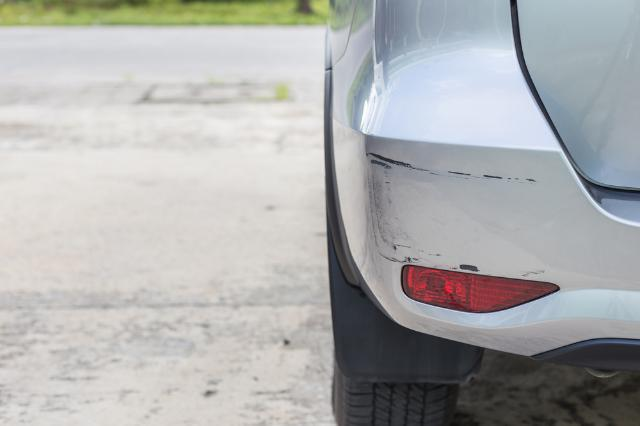scratch: (360, 150, 549, 280)
